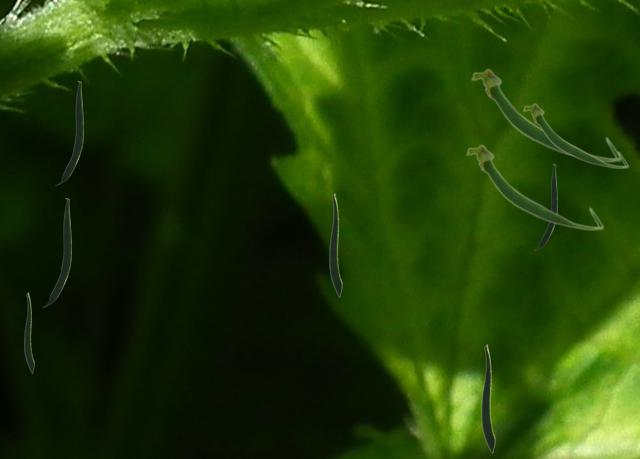french_bean: (470, 68, 621, 162), (465, 144, 603, 230), (522, 102, 628, 168), (42, 198, 70, 306), (56, 81, 82, 184), (535, 164, 556, 249), (481, 344, 494, 452), (329, 193, 341, 296), (24, 292, 33, 372)
